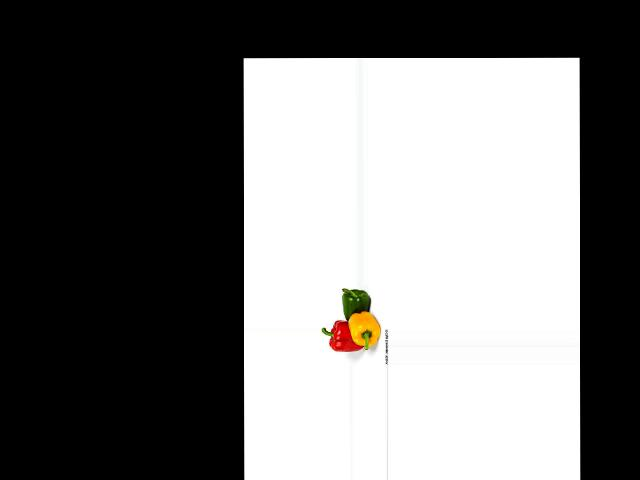bell_pepper: (321, 319, 361, 354)
